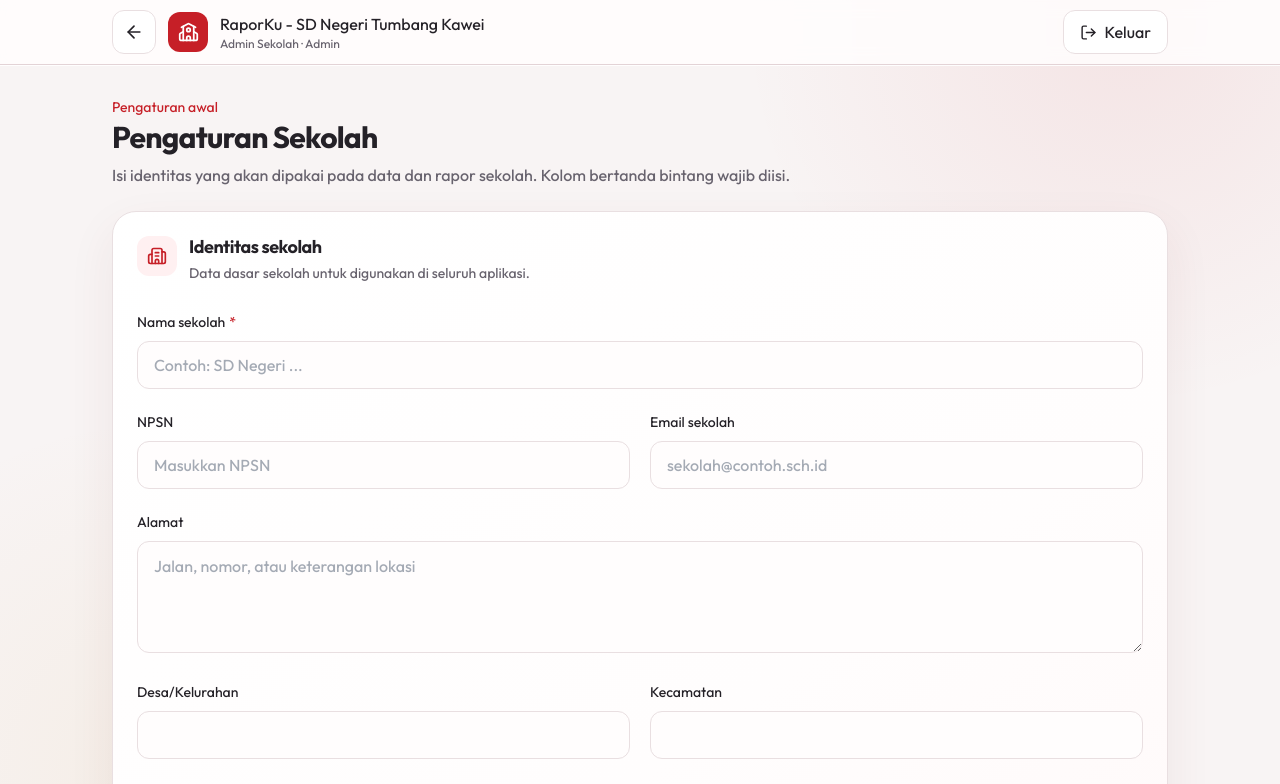
SchoolSettingsPage › menyimpan semua bidang dengan identitas Admin
The image size is (1280, 784).
Step 1. Type "Sekolah Dasar Contoh" into the field labelled "Nama sekolah*" → (640, 365), box [137,341,1143,389]
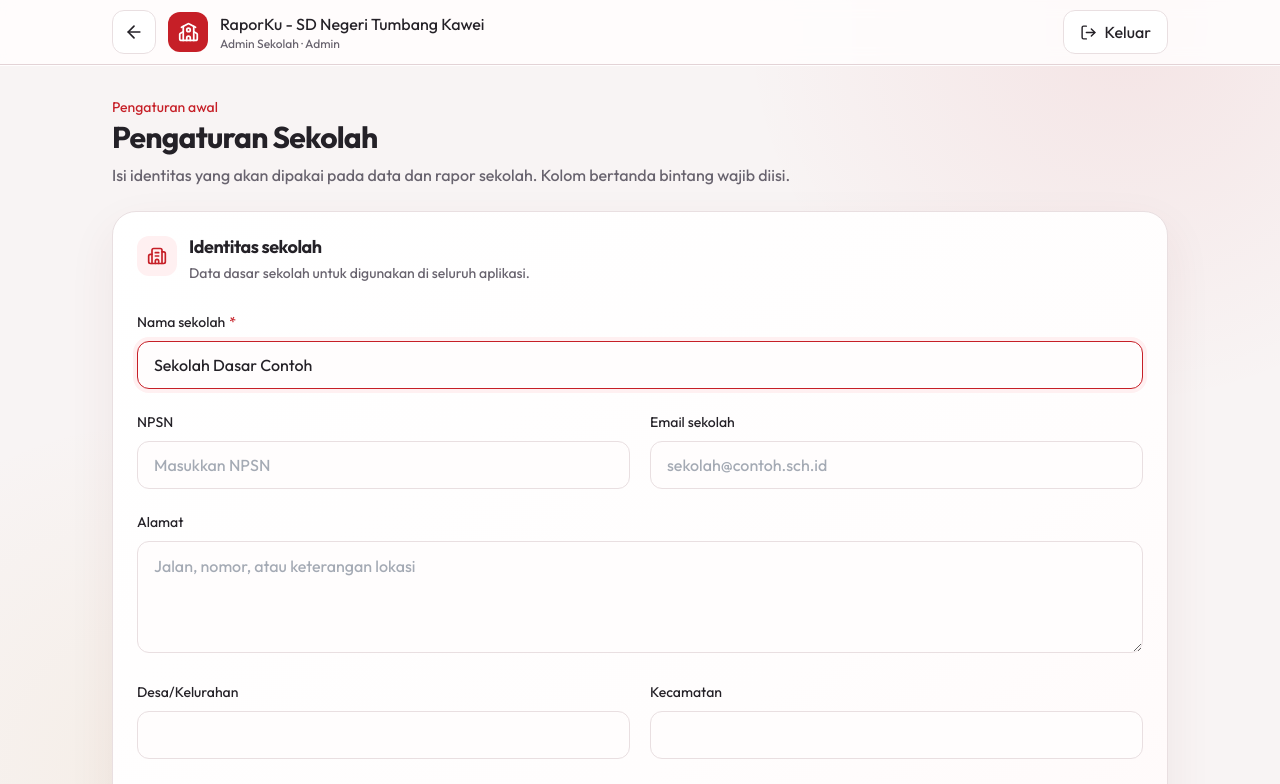
Step 2. Type "12345678" into the field labelled "NPSN" → (384, 465), box [137,441,630,489]
(page scrolled)
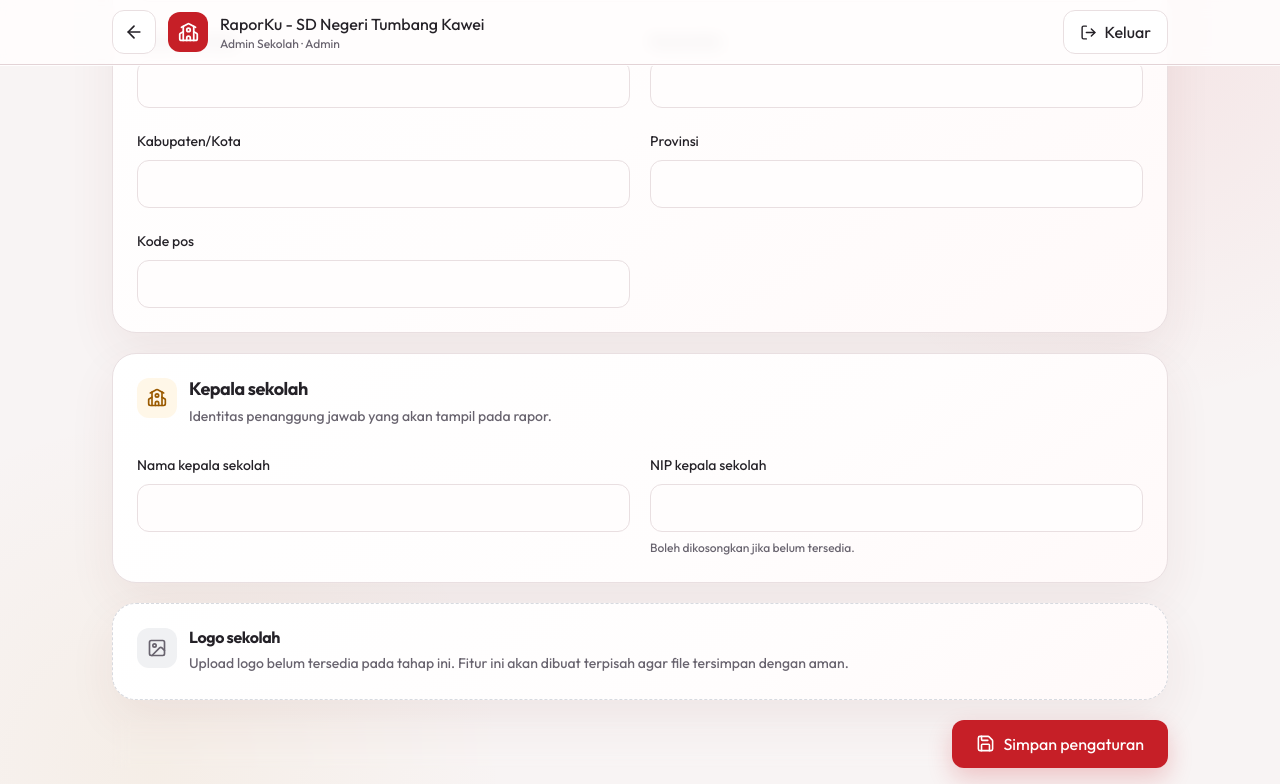
Step 3. Click the button "Simpan pengaturan" → (1060, 744), box [952,720,1168,768]
(page scrolled)
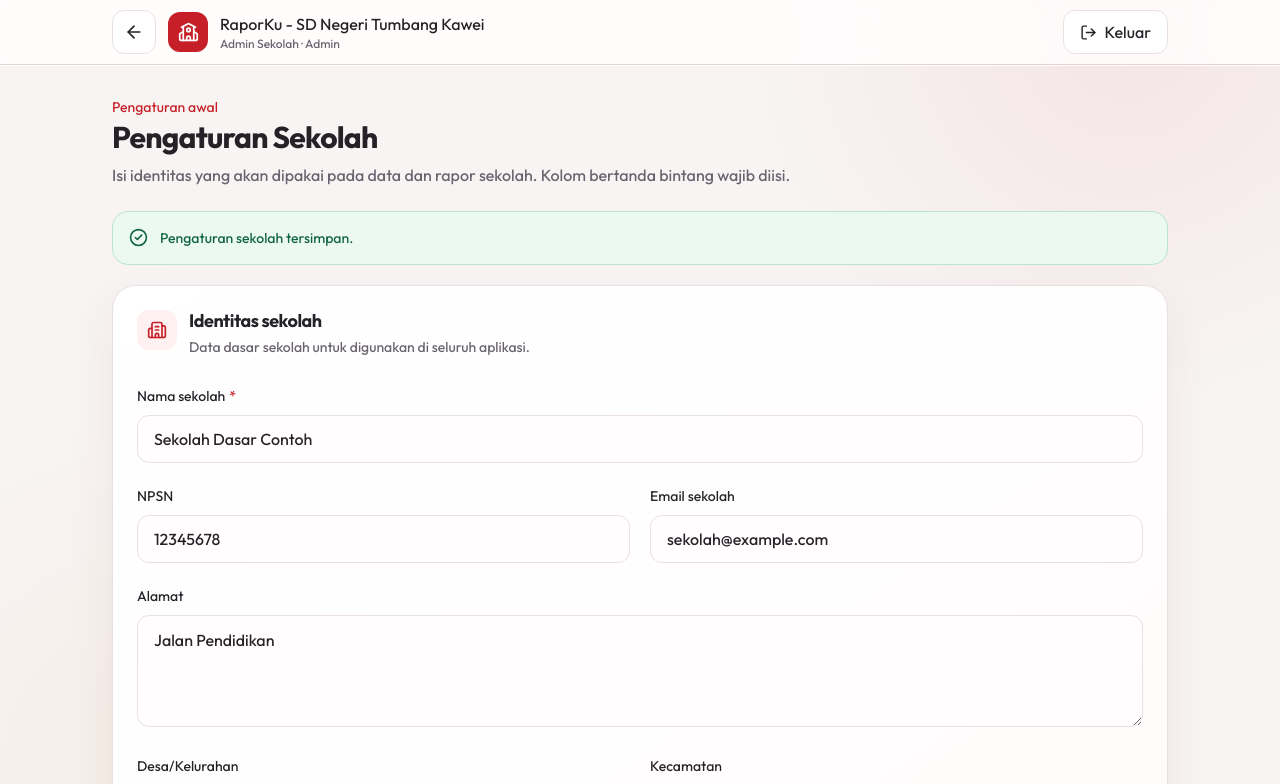
Check: the text "Pengaturan sekolah tersimpan." is shown, box [160,228,353,248]
